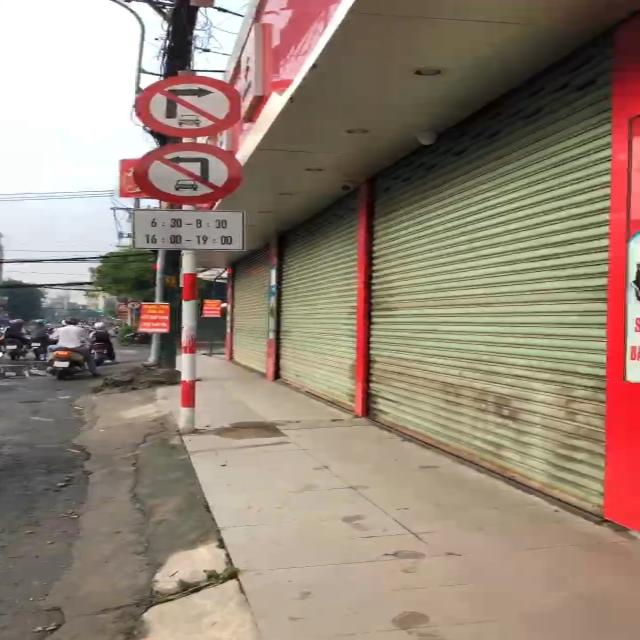Bien bao cam xe o to re phai: (128, 74, 258, 138)
Bien bao cam xe o to re trai: (130, 139, 245, 205)
